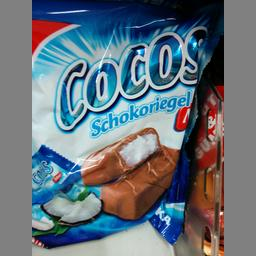chocolate: (32, 2, 208, 241)
